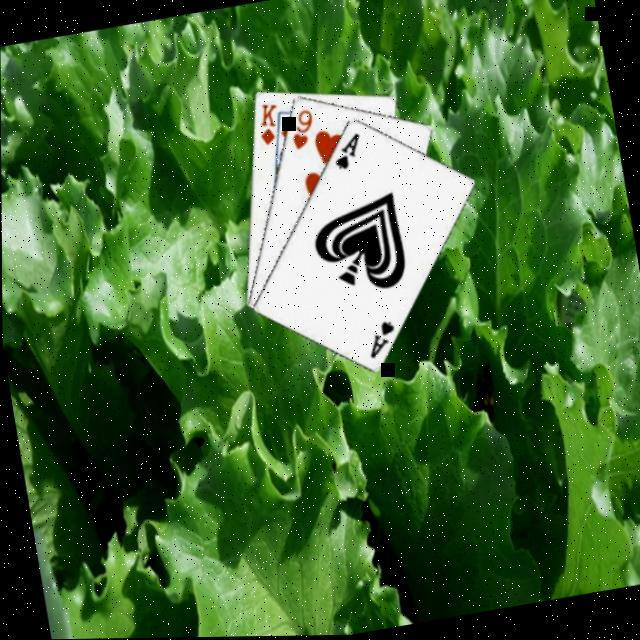9H: (283, 105, 318, 153)
AS: (360, 315, 400, 361), (326, 129, 366, 174)
KD: (251, 99, 284, 149)
